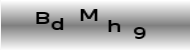9: (133, 25, 146, 41)
B: (34, 10, 50, 25)
M: (79, 7, 98, 23)
d: (50, 16, 65, 31)
h: (106, 18, 121, 33)
